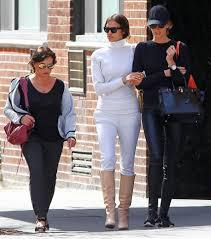Person: (132, 5, 203, 229), (4, 46, 77, 232), (91, 13, 146, 230)
